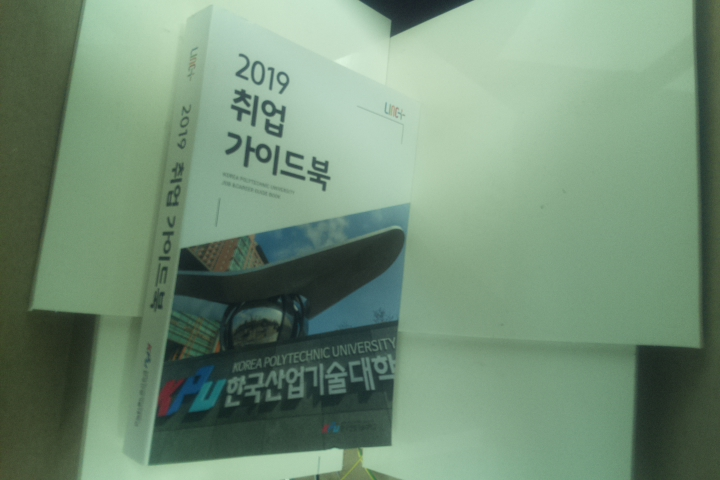book: (120, 4, 418, 467)
